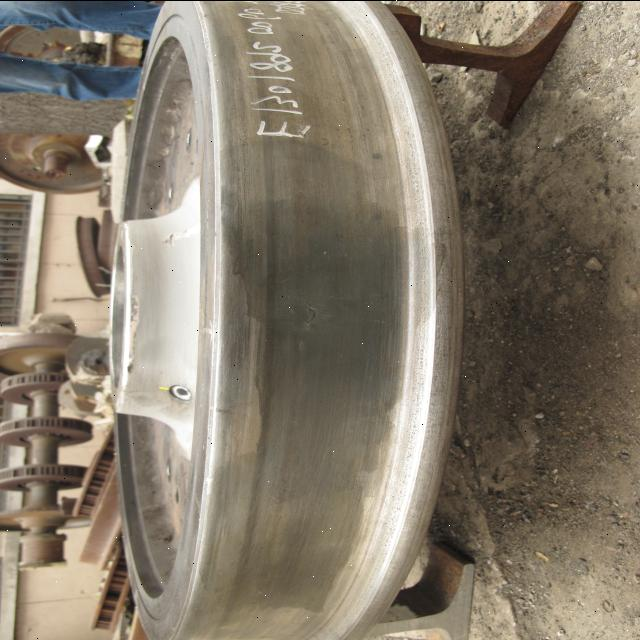fatigue crack: (299, 298, 322, 328)
